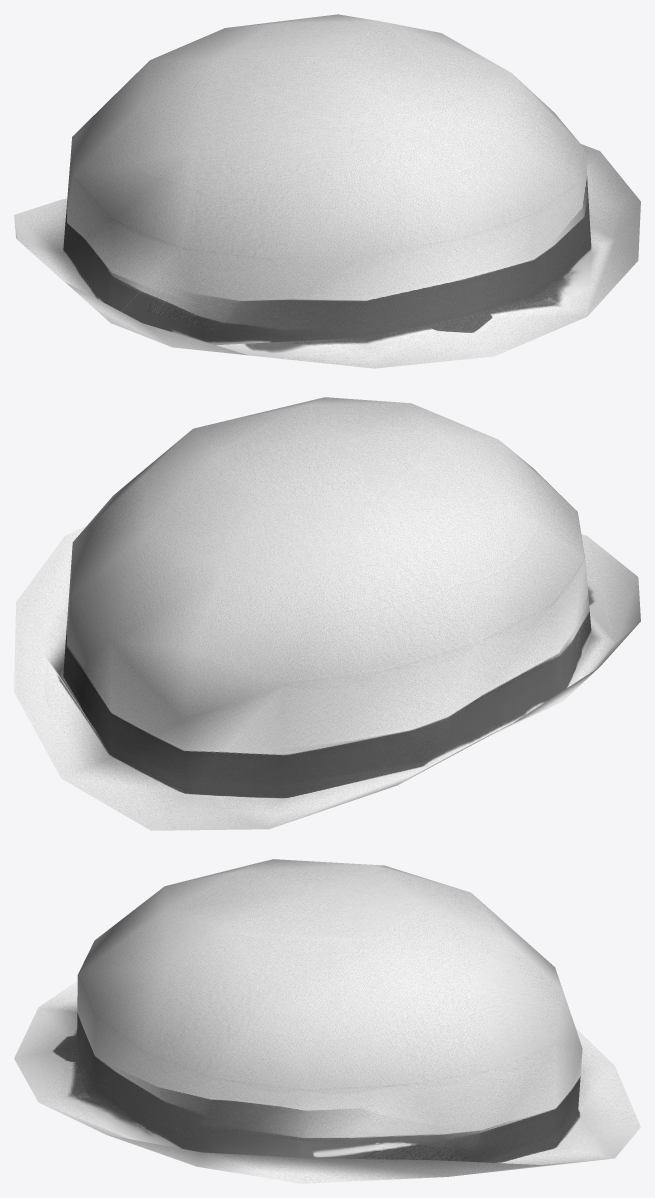
File: bowlerHat.glb
3 views of the same model, one above another, from view 1: azimuth 30°, elevation 25°; view 2: azimuth 150°, elevation 25°; view 3: azimuth 270°, elevation 25° (orthographic). The views are drawn at different scales.
Visible parts, largest first — view 1: BowlerHat; view 2: BowlerHat; view 3: BowlerHat.
Part boxes in pixels (bbox=[...]): BowlerHat: bbox=[14, 14, 640, 368]; BowlerHat: bbox=[14, 397, 640, 830]; BowlerHat: bbox=[14, 859, 640, 1183].
Size of the model in its own units: 10.67 by 4.94 by 11.85.
1 material, 1 textured.
